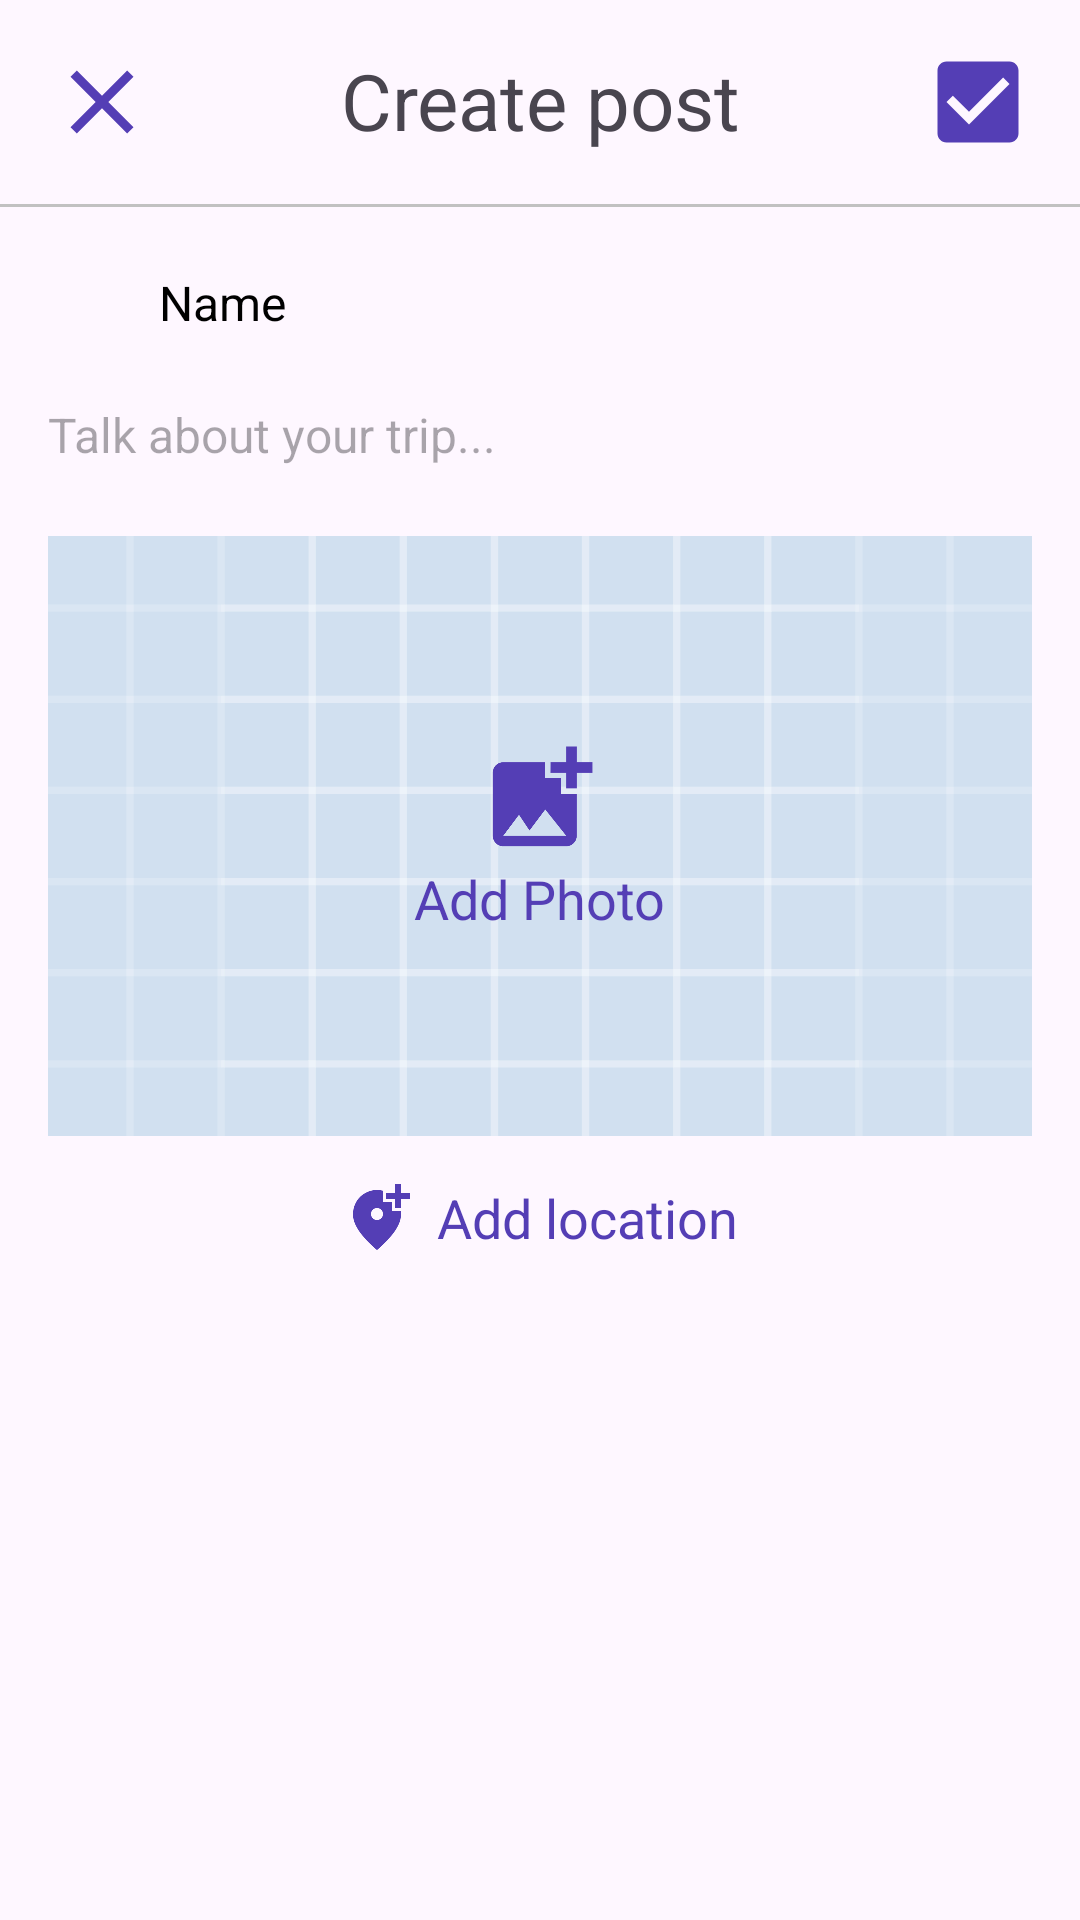

Icons on this 1080px x 1920px Android screen, each with the point to tap as (x=x, y=y):
check: (x=978, y=102)
close: (x=102, y=102)
